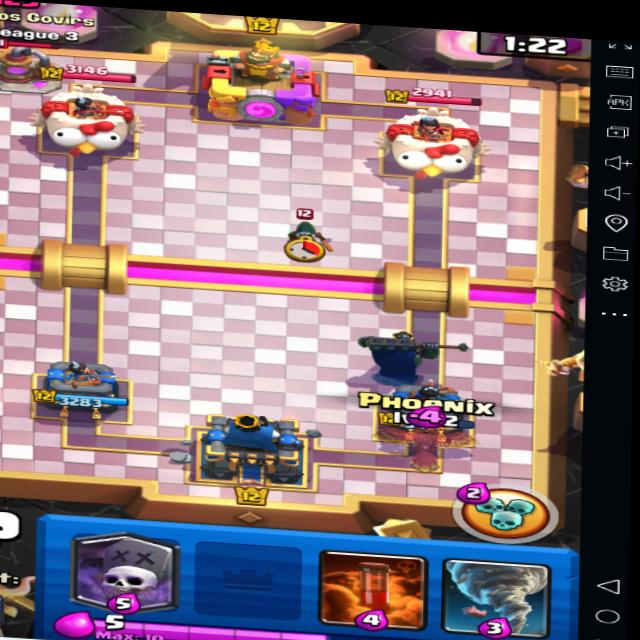Bandit: (254, 204, 350, 265)
Pump: (0, 40, 68, 95)
